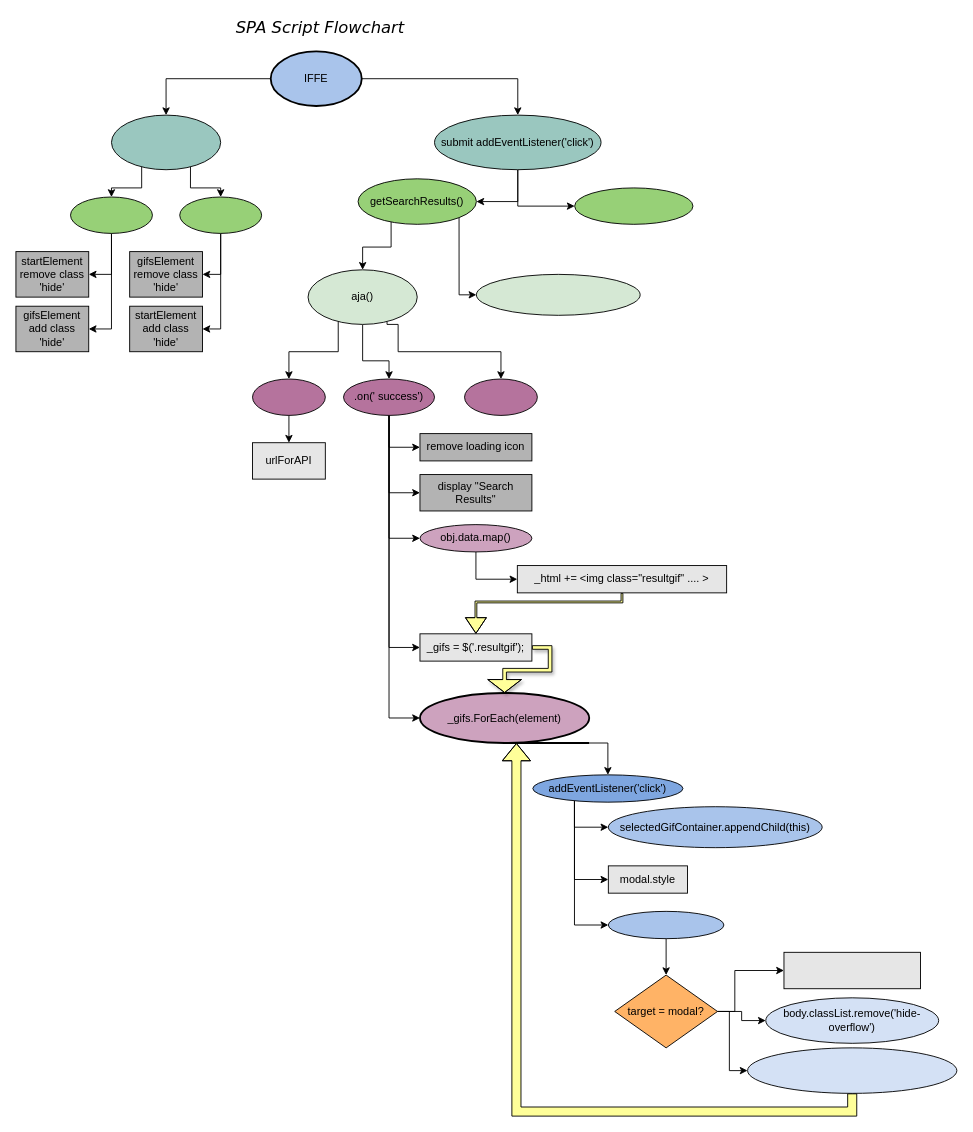
Some shapes in this 973 by 1132 pixel diagram are drawn without their labels. The shapes that lost their labels are listed below. From the top down, each one's centre as x and y in pixels, then its label:
point (166, 142): routie()
point (111, 214): gifs()
point (220, 214): start()
point (633, 205): preventDefault()
point (557, 294): loading.classList.add('hide')
point (288, 396): .url()
point (500, 396): go()
point (665, 924): window.onclick
point (851, 970): modal.display = 'none'
point (852, 1070): selectedGifContainer . removeChild(element)
